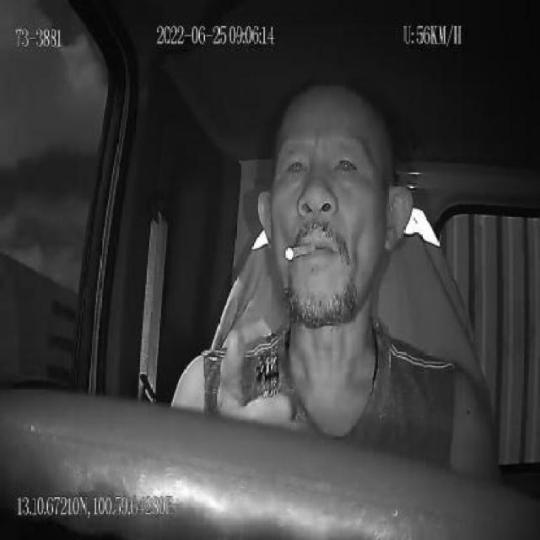smoking: (284, 241, 316, 260)
